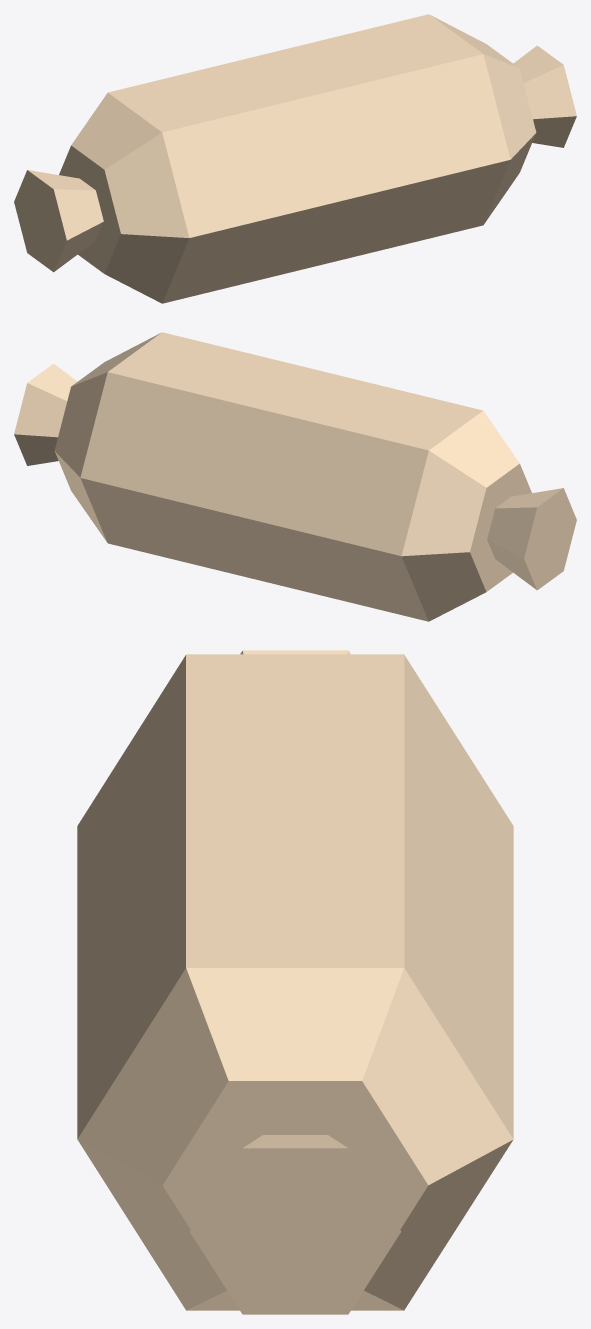
The picture shows the model from 3 angles, top to bottom: view 1: azimuth 30°, elevation 25°; view 2: azimuth 150°, elevation 25°; view 3: azimuth 270°, elevation 25°; orthographic projection. The views are drawn at different scales.
Visible parts, largest first — view 1: sausage; view 2: sausage; view 3: sausage.
Part boxes in pixels (x1,y1,x2,y2): sausage: (14, 14, 576, 303); sausage: (14, 332, 576, 621); sausage: (77, 650, 513, 1314).
Size of the model in its own units: 0.3707 by 0.119 by 0.1373.
